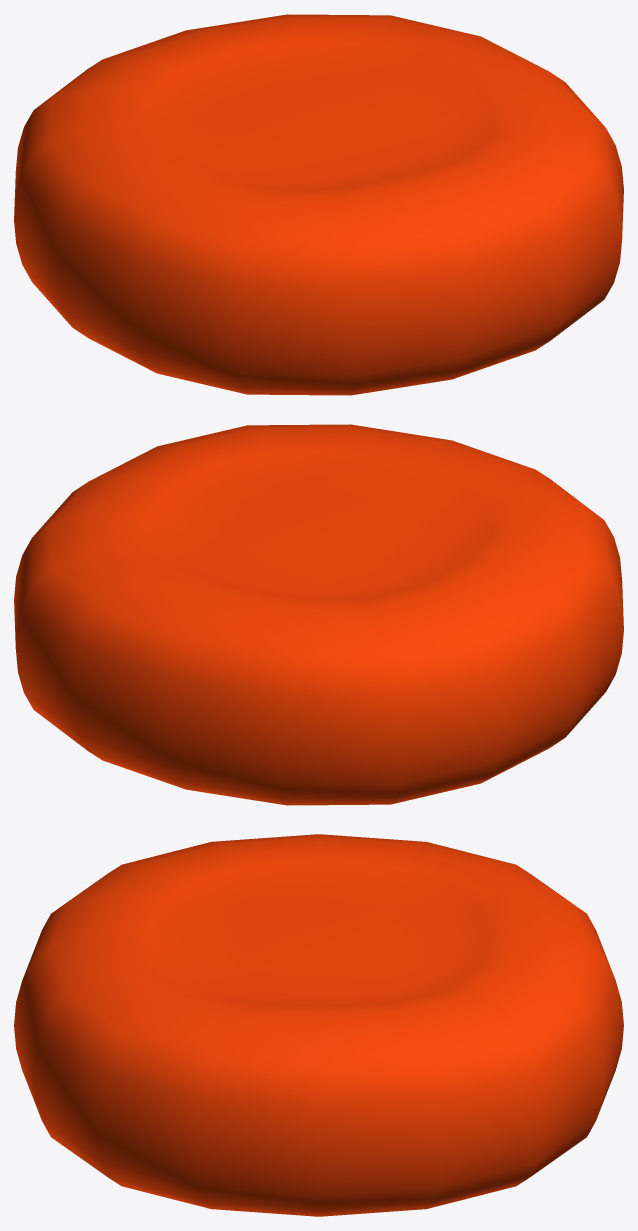
The model's file is Town_10_Baen_bag_1.glb.
3 renders of one model, top to bottom at view 1: azimuth 30°, elevation 25°; view 2: azimuth 150°, elevation 25°; view 3: azimuth 270°, elevation 25°, orthographic.
Visible parts, largest first — view 1: Town_10_Baen_bag_1; view 2: Town_10_Baen_bag_1; view 3: Town_10_Baen_bag_1.
Part boxes in pixels (x1,y1,x2,y2): Town_10_Baen_bag_1: (14, 14, 623, 395); Town_10_Baen_bag_1: (14, 424, 623, 805); Town_10_Baen_bag_1: (14, 834, 623, 1216).
Size of the model in its own units: 1.13 by 0.4092 by 1.13.
Materials: 1 (1 with a texture image).
